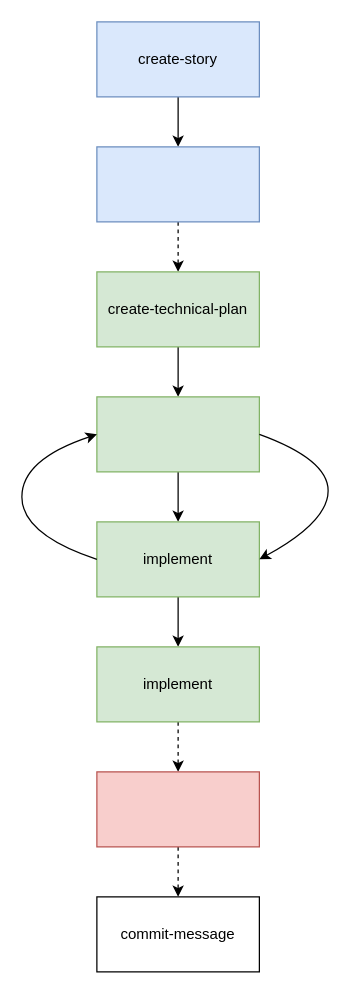
This 350x994 diagram has some shape labels left out. Here are the shapes that lost their labels. From the top down, the centre of each, then its label:
(x=177, y=184): create-ac
(x=177, y=434): create-unit-tests
(x=177, y=809): update- documention
